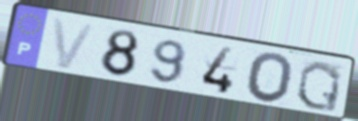4: (198, 44, 236, 96)
8: (97, 28, 140, 80)
9: (147, 39, 193, 85)
O: (245, 51, 296, 105)
Q: (294, 59, 344, 115)
V: (50, 16, 99, 72)
